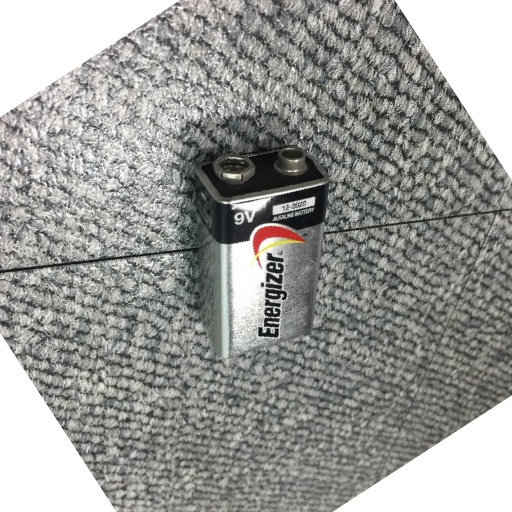Battery_3: (174, 123, 355, 388)
